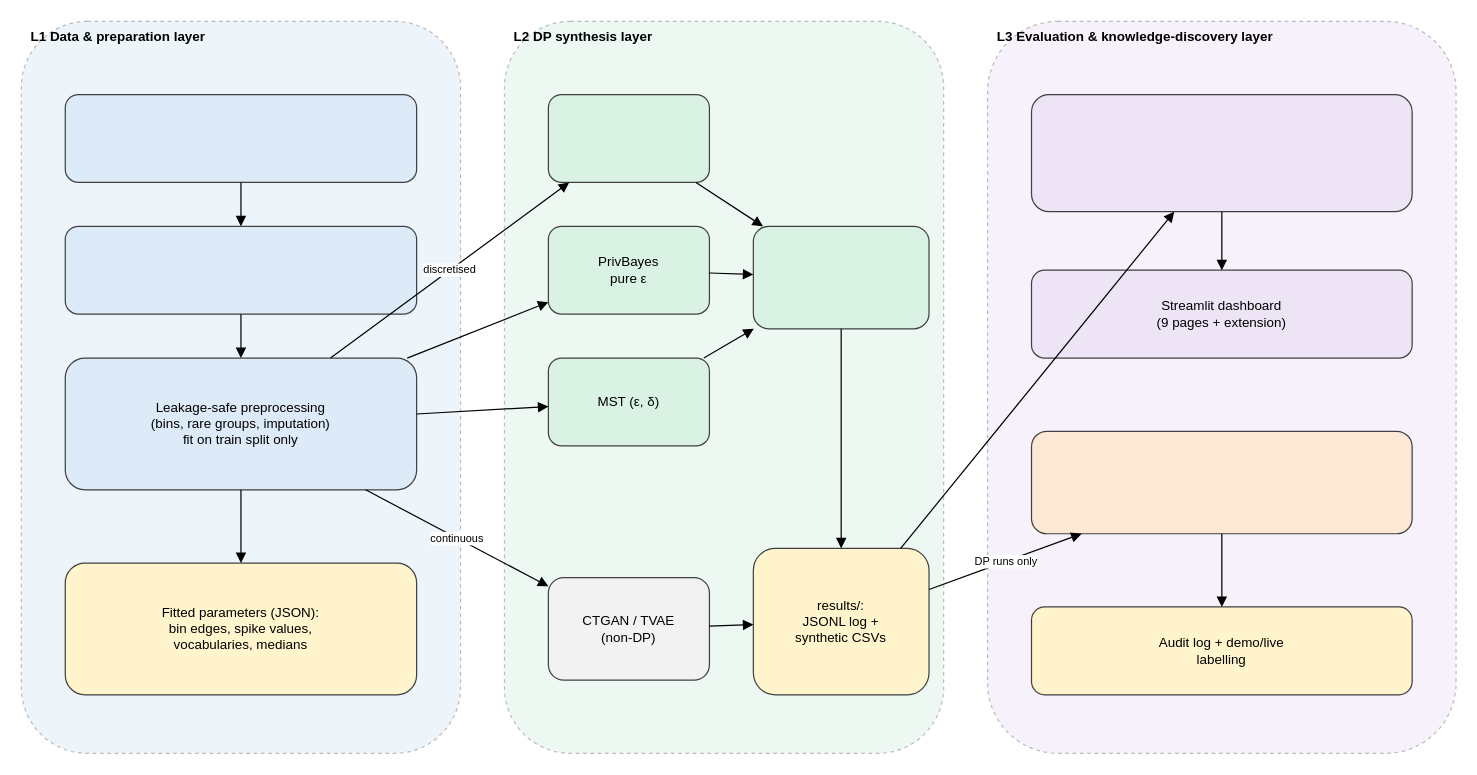
Some shapes in this 1477 by 775 pixel diagram are drawn without their labels. The centre of each missing label's shape, as x and y in pixels:
AIM (ε, δ) rounds ≤ 60: the point at 628,137
Dataset loader & profiler (schema.py): the point at 240,137
Fidelity · Utility · Privacy Fairness · Rare patterns · Runtime: the point at 1221,152
Inverse binning (uniform in bin): the point at 840,277
LLM knowledge discovery (aggregate summary → Claude): the point at 1221,482
Stratified train/test split (80/20, seed 42): the point at 240,269
